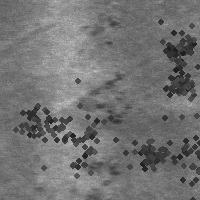rolled-in_scale: (22, 84, 128, 190), (141, 102, 200, 200), (6, 92, 66, 152), (81, 66, 133, 128), (148, 18, 200, 76), (83, 151, 123, 200), (77, 6, 121, 49), (158, 61, 200, 103), (129, 132, 169, 172)
